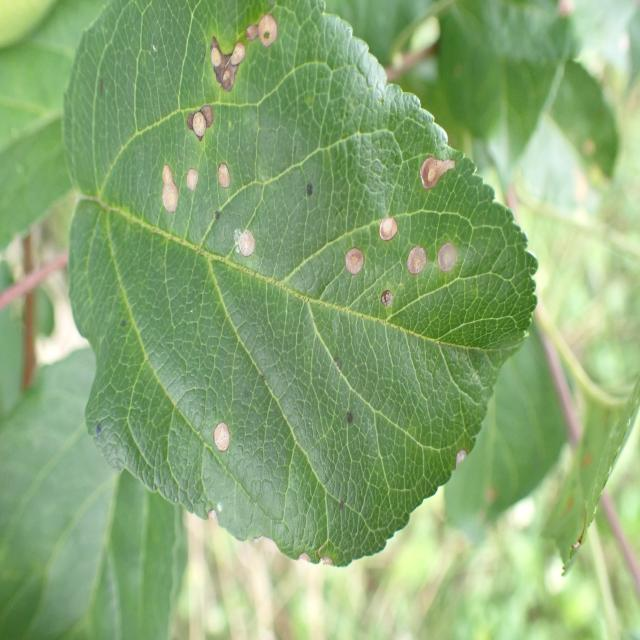Black Rot: (202, 31, 248, 108), (239, 0, 287, 65), (418, 146, 459, 204), (180, 91, 214, 160), (335, 232, 373, 288), (222, 216, 262, 268), (156, 156, 186, 222), (397, 246, 434, 290), (210, 419, 243, 468), (213, 146, 238, 206), (184, 160, 208, 217), (438, 231, 462, 284), (379, 210, 400, 256)
